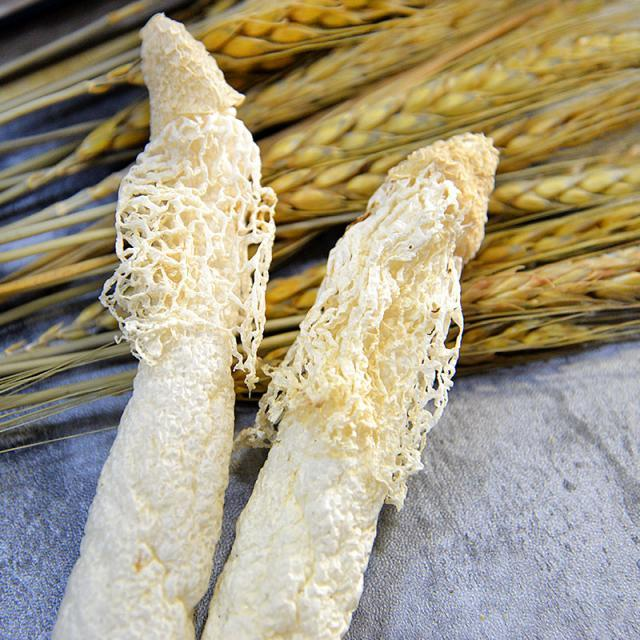Dictyophora indusiate: (201, 136, 502, 638), (56, 12, 275, 640)
